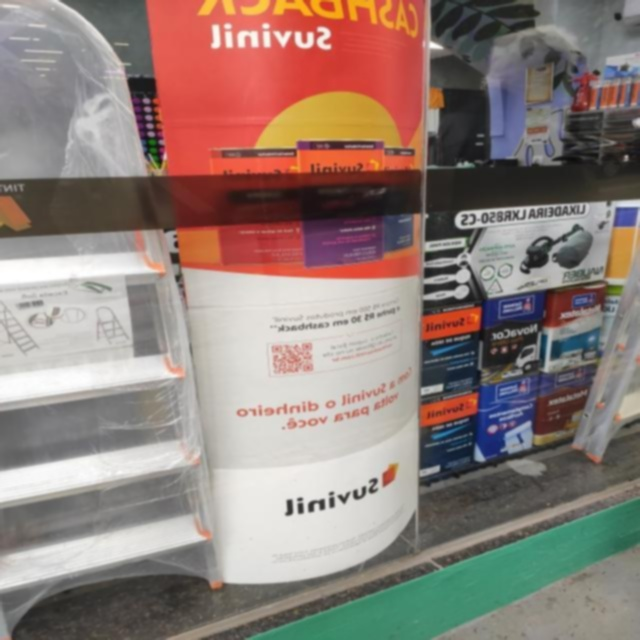qr-code: (272, 342, 313, 374)
